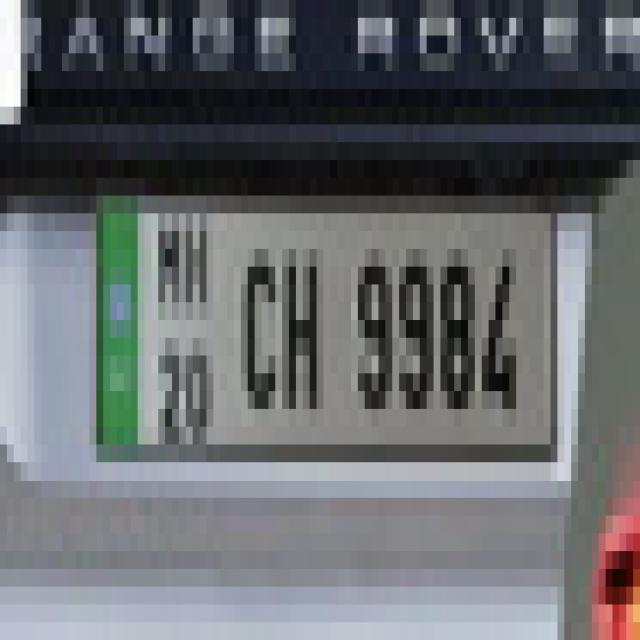0: (184, 331, 214, 453)
4: (478, 238, 525, 436)
8: (436, 232, 479, 432)
9: (394, 240, 437, 427), (350, 234, 392, 422)
C: (243, 242, 280, 438)
H: (284, 238, 322, 430), (184, 194, 215, 340)
M: (154, 198, 184, 328)
